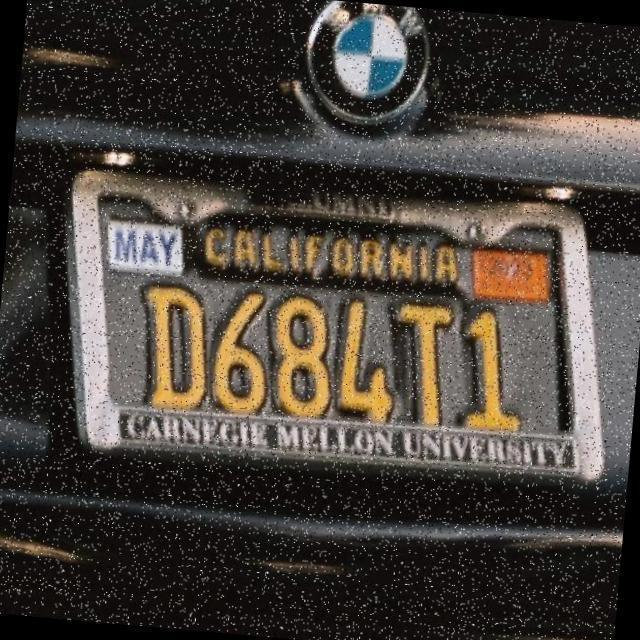license_plate: (50, 130, 634, 450)
